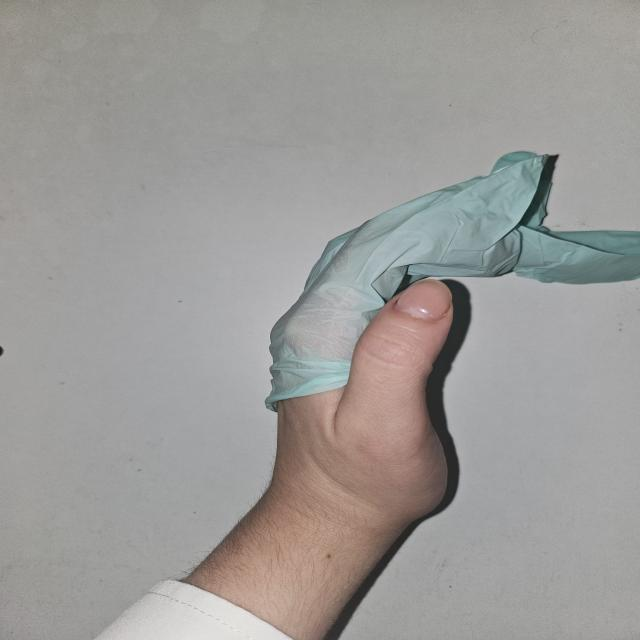glove_partial: (263, 152, 640, 531)
